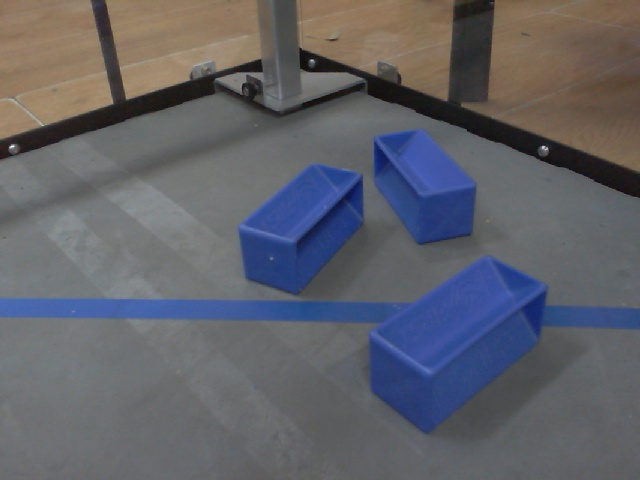BlueSample: (365, 253, 555, 437), (235, 160, 367, 304), (369, 123, 482, 248)
